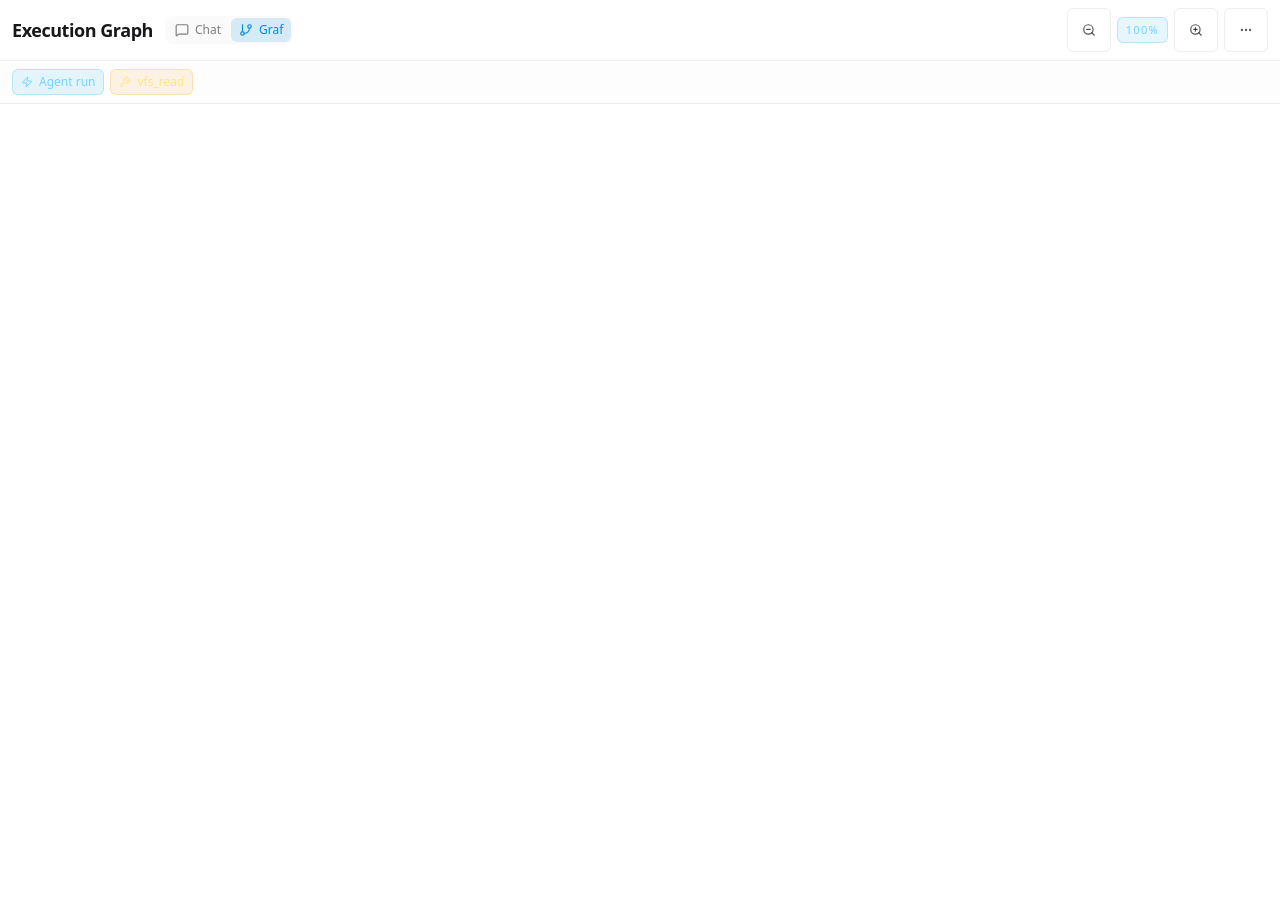
ExecutionGraphHeader › uses singular live counters when exactly one loop and one tool are active
The width and height of the screenshot is (1280, 900).
Click the button named "More graph controls". click: (1246, 30)
box: x1=1224 y1=8 x2=1268 y2=52
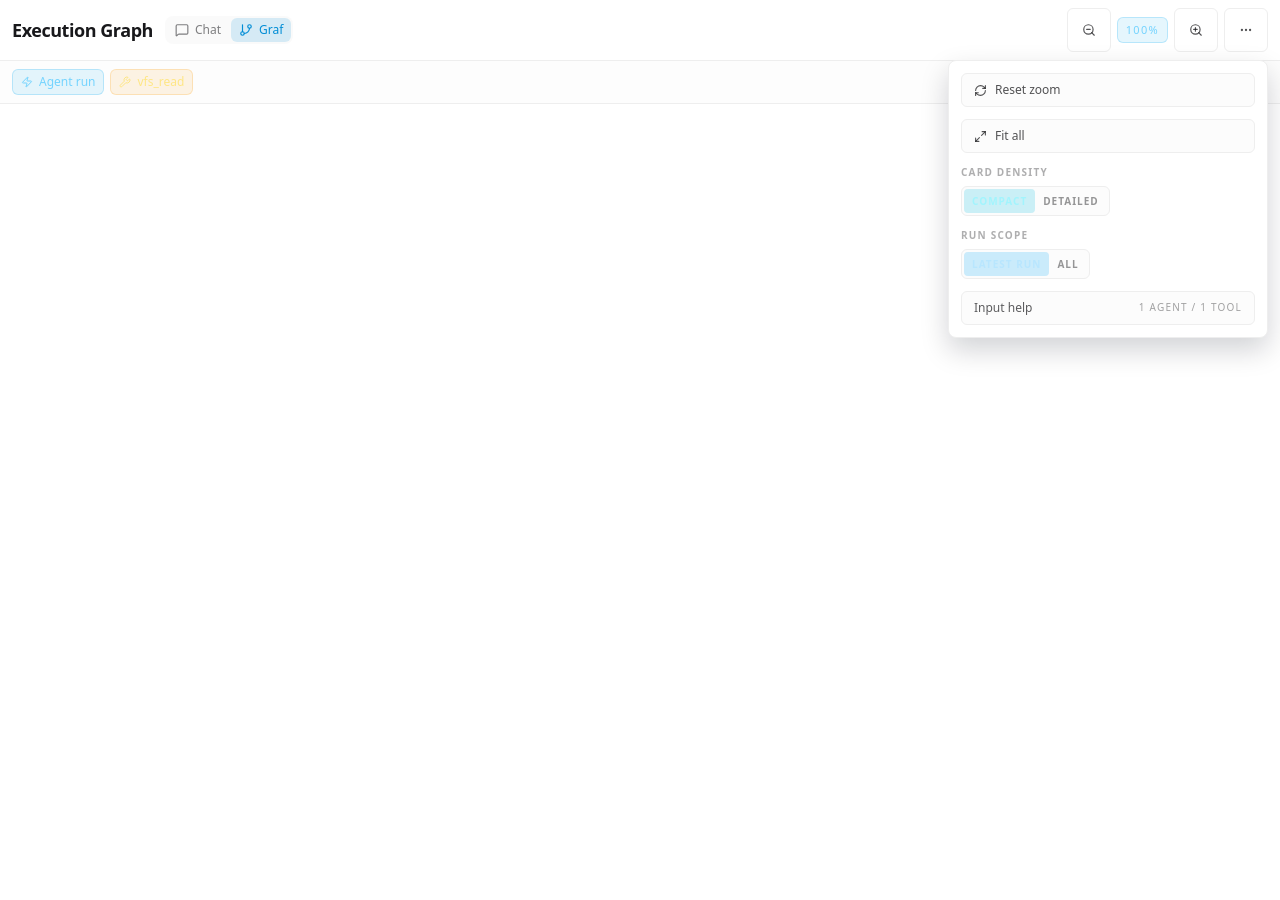
Result: the text "1 agent / 1 tool" is shown at x1=1139 y1=301 x2=1242 y2=315
Click the button "Input help 1 agent / 1 tool". click: (1003, 308)
box: x1=961 y1=291 x2=1255 y2=325
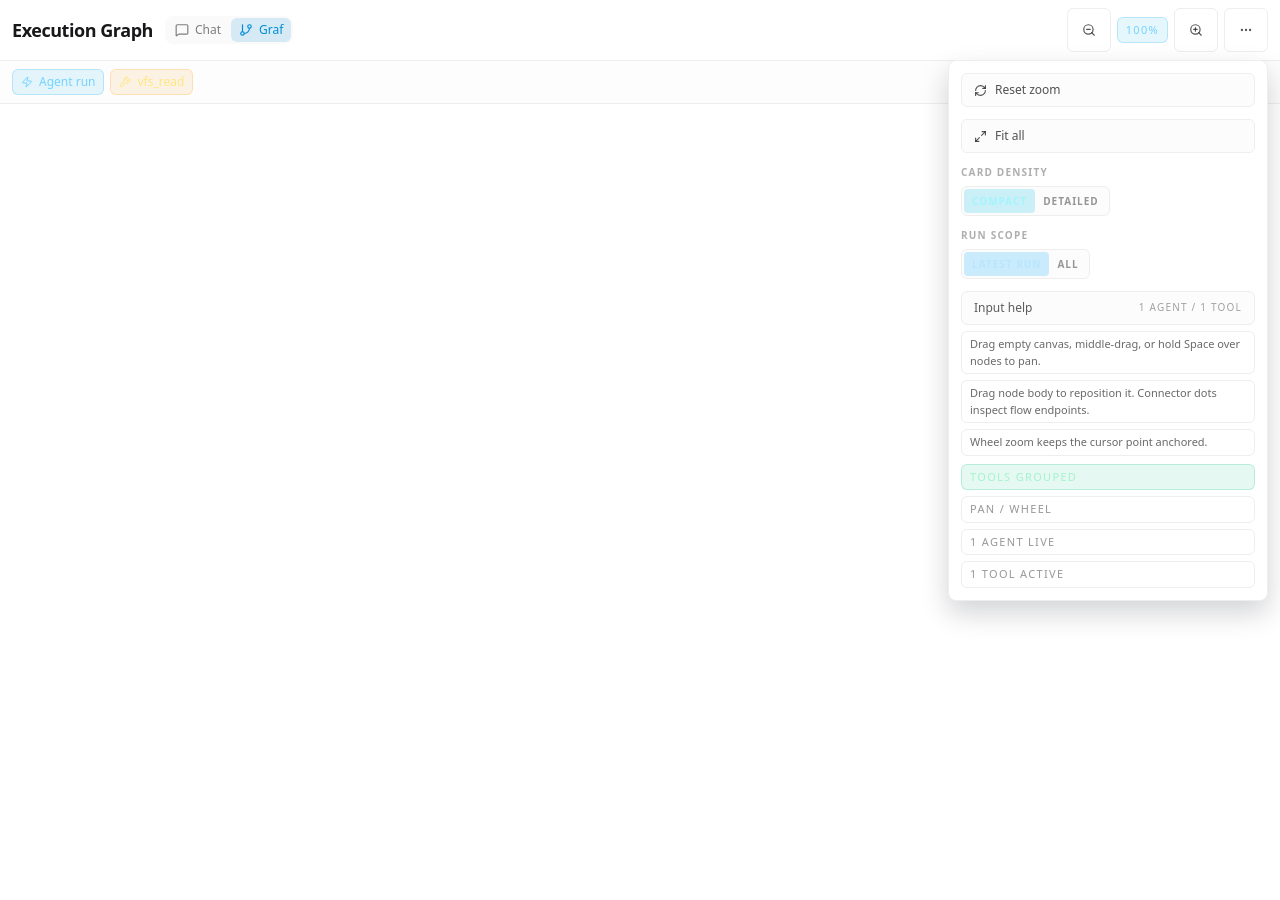
Result: the text "1 agent live" is shown at x1=961 y1=528 x2=1255 y2=555
Result: the text "1 tool active" is shown at x1=961 y1=561 x2=1255 y2=588
Result: the text "tools grouped" is shown at x1=961 y1=464 x2=1255 y2=490
